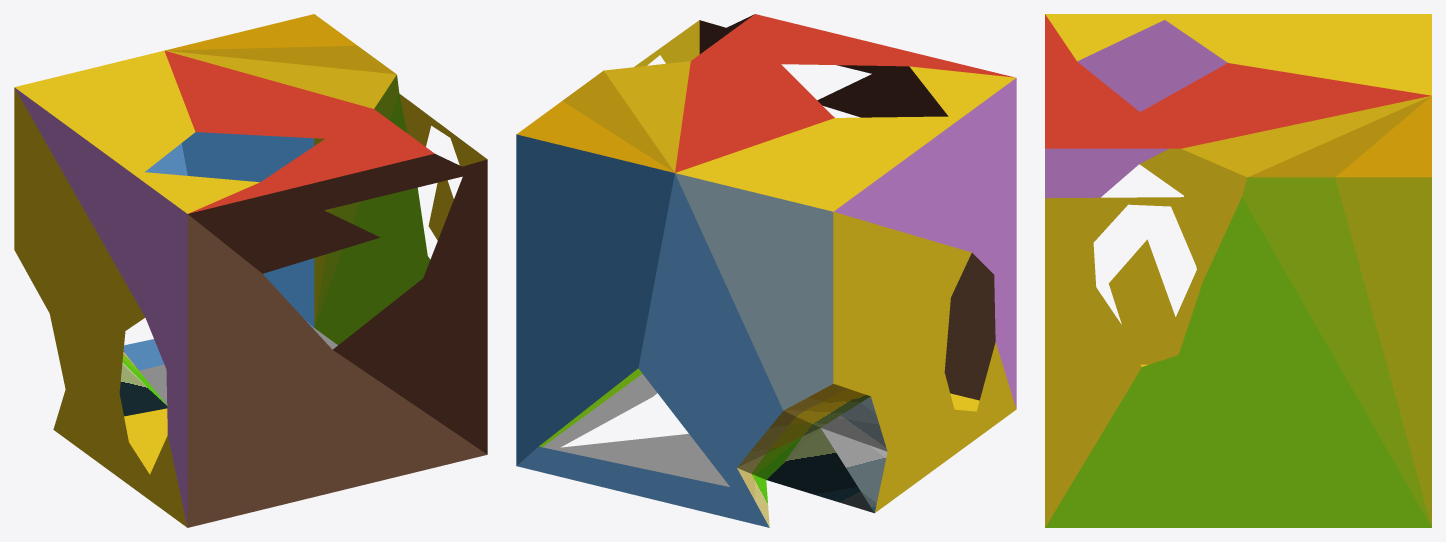
The model's file is CubeNamedSides3.dae.
The picture shows the model from 3 angles, left to right: view 1: azimuth 30°, elevation 25°; view 2: azimuth 150°, elevation 25°; view 3: azimuth 270°, elevation 25°; orthographic projection. The views are drawn at different scales.
Parts seen in each view (by area): view 1: Original; view 2: Original; view 3: Original.
Part boxes in pixels (x1,y1,x2,y2): Original: (14,14,487,527); Original: (516,14,1016,527); Original: (1045,14,1431,527).
Size of the model in its own units: 1 by 1 by 1.
Materials: 1 (1 with a texture image).
